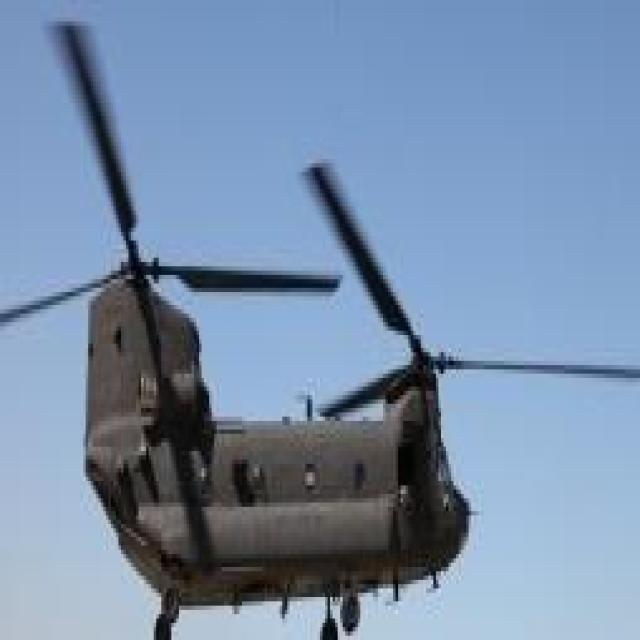Helicopter: (34, 205, 485, 640)
